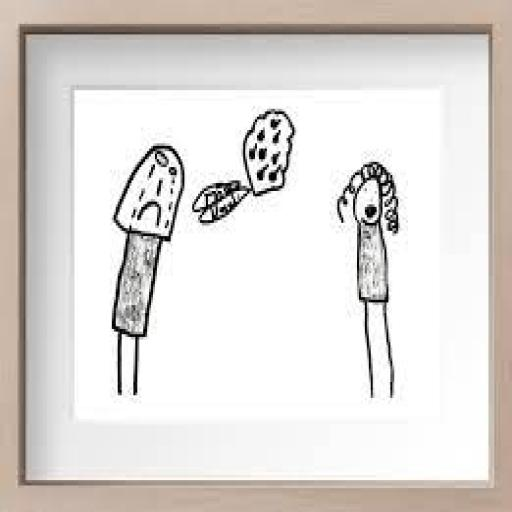person: (327, 155, 428, 405), (106, 124, 190, 405)
